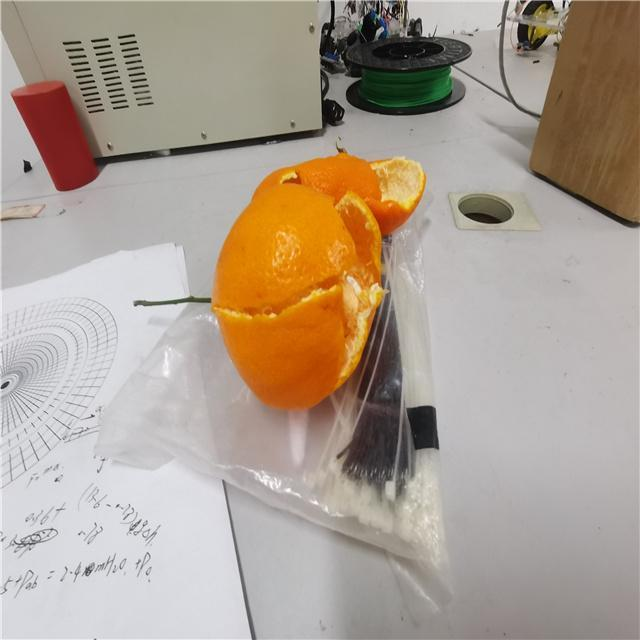orange-peel: (209, 149, 426, 411)
